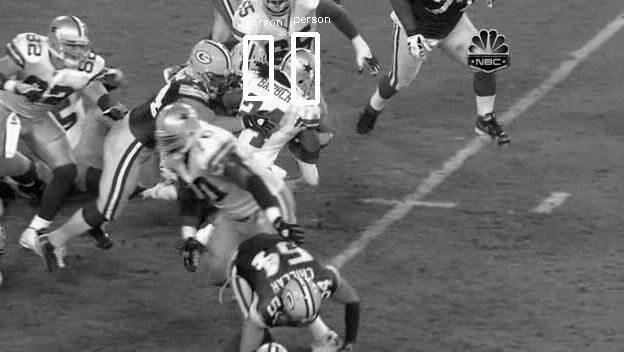person: (287, 49, 322, 94), (286, 49, 321, 94), (288, 49, 323, 94), (287, 48, 322, 93), (287, 50, 322, 95)
target_negative: (129, 38, 402, 256), (143, 60, 622, 89), (141, 54, 200, 240), (100, 184, 158, 313), (511, 253, 579, 318), (43, 314, 61, 341)
